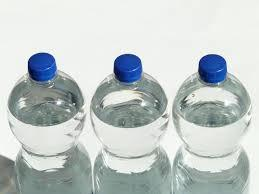Plastic bottle: (0, 49, 256, 194)
